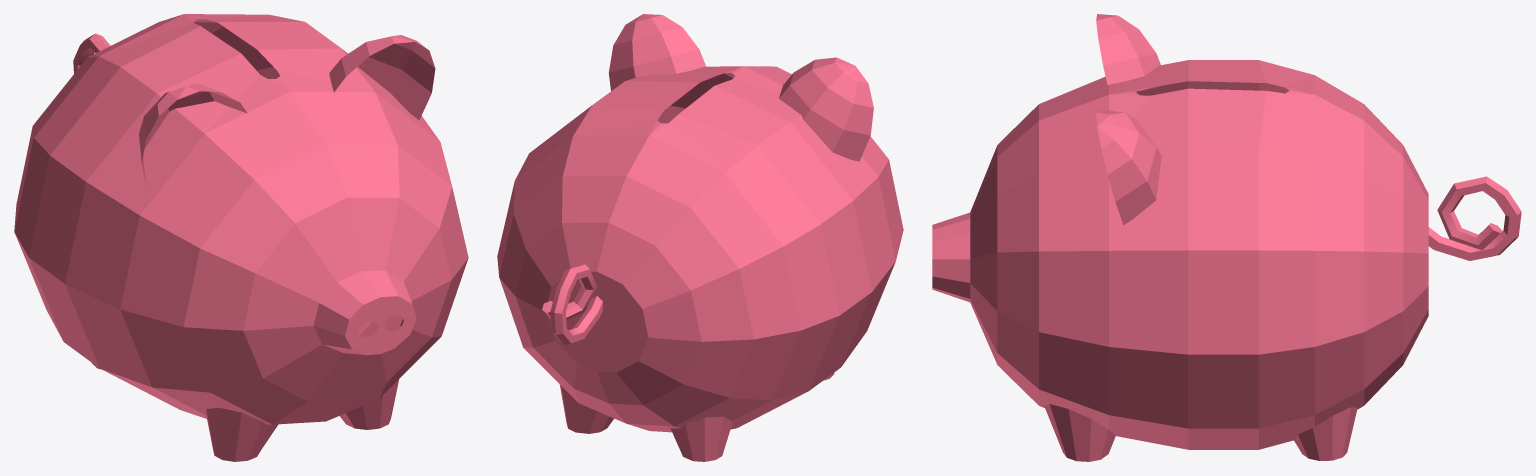
The model's file is piggy_bank.fbx.
The picture shows the model from 3 angles, left to right: view 1: azimuth 30°, elevation 25°; view 2: azimuth 150°, elevation 25°; view 3: azimuth 270°, elevation 25°; orthographic projection. The views are drawn at different scales.
Visible parts, largest first — view 1: piggy_bank; view 2: piggy_bank; view 3: piggy_bank.
Part boxes in pixels (box(x1,y1,x2,y2)): piggy_bank: box(14, 14, 468, 461); piggy_bank: box(497, 14, 903, 461); piggy_bank: box(932, 14, 1521, 461).
Bounding box in the file's own units: 0.1226 × 0.1189 × 0.1748.
Materials: 1 (1 with a texture image).
